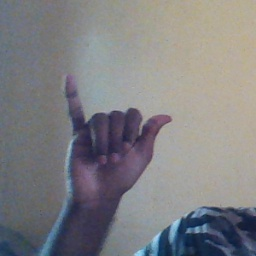J: (59, 74, 175, 196)
